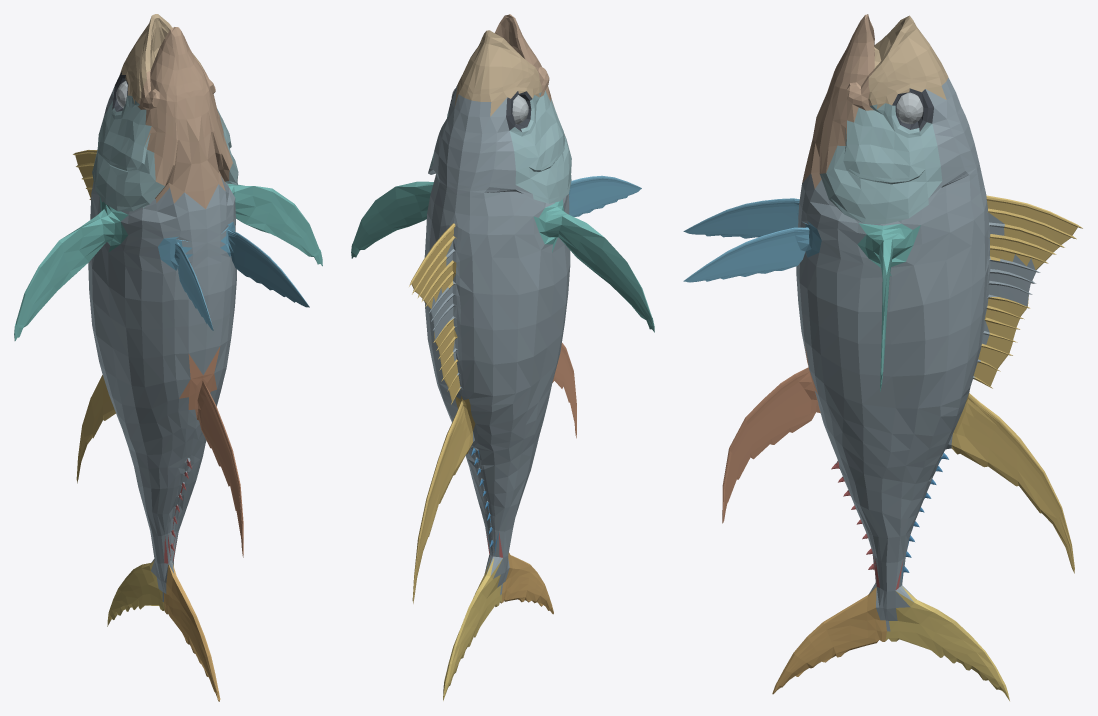
Rendered from YELLOWFIN_SOURCE_COPY_R001.glb.
The picture shows the model from 3 angles, left to right: view 1: azimuth 30°, elevation 25°; view 2: azimuth 150°, elevation 25°; view 3: azimuth 270°, elevation 25°; orthographic projection. The views are drawn at different scales.
Parts seen in each view (by area): view 1: source_copy_body_core, source_copy_lower_jaw, source_copy_pectoral_fin, source_copy_operculum_candidate, source_copy_pelvic_fin, source_copy_anal_fin, source_copy_caudal_lower, source_copy_upper_jaw, source_copy_dorsal_fin, source_copy_caudal_upper; view 2: source_copy_body_core, source_copy_pectoral_fin, source_copy_dorsal_fin, source_copy_operculum_candidate, source_copy_upper_jaw, source_copy_caudal_upper, source_copy_pelvic_fin, source_copy_caudal_lower, source_copy_lower_jaw, source_copy_anal_fin, source_copy_eye; view 3: source_copy_body_core, source_copy_dorsal_fin, source_copy_operculum_candidate, source_copy_pelvic_fin, source_copy_lower_jaw, source_copy_anal_fin, source_copy_upper_jaw, source_copy_caudal_upper, source_copy_caudal_lower, source_copy_pectoral_fin, source_copy_aux_node_111_mesh_02_prim_00, source_copy_eye.
Part boxes in pixels (bbox=[...]): source_copy_body_core: bbox=[88, 74, 236, 601]; source_copy_lower_jaw: bbox=[137, 27, 232, 208]; source_copy_pectoral_fin: bbox=[14, 184, 322, 340]; source_copy_operculum_candidate: bbox=[92, 95, 238, 211]; source_copy_pelvic_fin: bbox=[158, 222, 309, 330]; source_copy_anal_fin: bbox=[179, 346, 243, 557]; source_copy_caudal_lower: bbox=[164, 563, 220, 701]; source_copy_upper_jaw: bbox=[119, 14, 203, 103]; source_copy_dorsal_fin: bbox=[73, 150, 115, 483]; source_copy_caudal_upper: bbox=[107, 560, 164, 626]; source_copy_body_core: bbox=[424, 86, 570, 594]; source_copy_pectoral_fin: bbox=[351, 181, 654, 332]; source_copy_dorsal_fin: bbox=[409, 223, 475, 603]; source_copy_operculum_candidate: bbox=[429, 90, 571, 203]; source_copy_upper_jaw: bbox=[454, 30, 541, 116]; source_copy_caudal_upper: bbox=[443, 558, 502, 700]; source_copy_pelvic_fin: bbox=[569, 175, 641, 216]; source_copy_caudal_lower: bbox=[500, 552, 553, 614]; source_copy_lower_jaw: bbox=[495, 14, 564, 134]; source_copy_anal_fin: bbox=[552, 343, 576, 438]; source_copy_eye: bbox=[448, 85, 532, 131]; source_copy_body_core: bbox=[796, 78, 1042, 631]; source_copy_dorsal_fin: bbox=[951, 195, 1082, 573]; source_copy_operculum_candidate: bbox=[820, 103, 942, 224]; source_copy_pelvic_fin: bbox=[683, 198, 821, 282]; source_copy_lower_jaw: bbox=[802, 14, 874, 188]; source_copy_anal_fin: bbox=[722, 345, 820, 523]; source_copy_upper_jaw: bbox=[868, 15, 948, 109]; source_copy_caudal_upper: bbox=[885, 586, 1009, 700]; source_copy_caudal_lower: bbox=[772, 587, 886, 694]; source_copy_pectoral_fin: bbox=[857, 223, 920, 391]; source_copy_aux_node_111_mesh_02_prim_00: bbox=[896, 92, 923, 124]; source_copy_eye: bbox=[892, 88, 933, 131].
Bounding box in the file's own units: 1.49 × 3 × 1.59.
